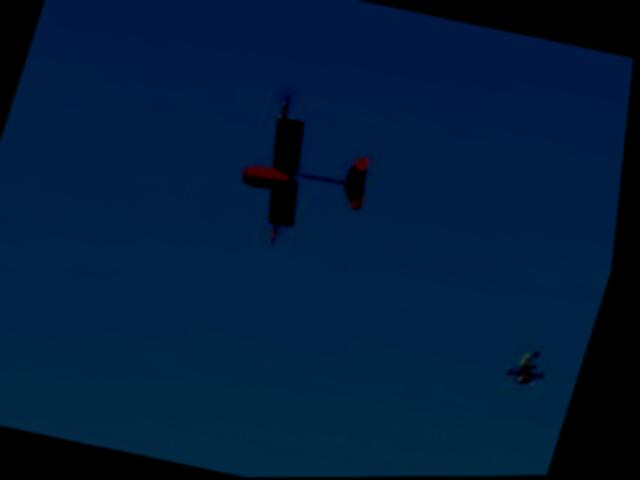uav: (207, 75, 409, 269)
